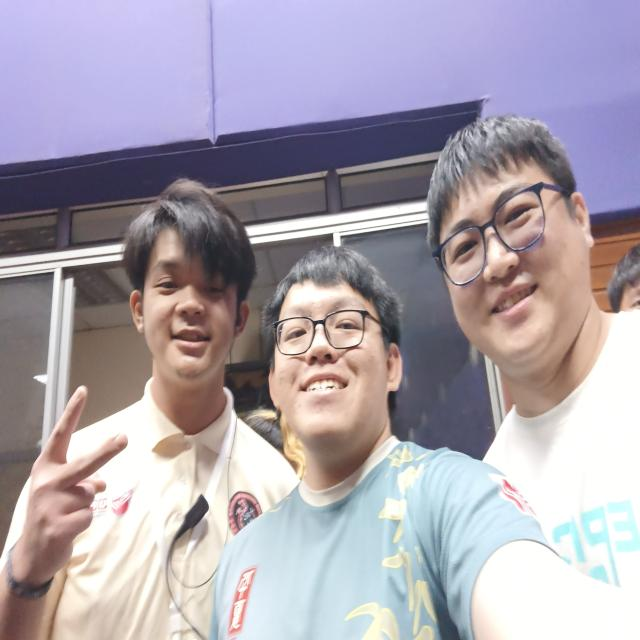person_without_labcoat: (209, 246, 640, 640), (0, 180, 297, 640), (427, 115, 640, 590)
